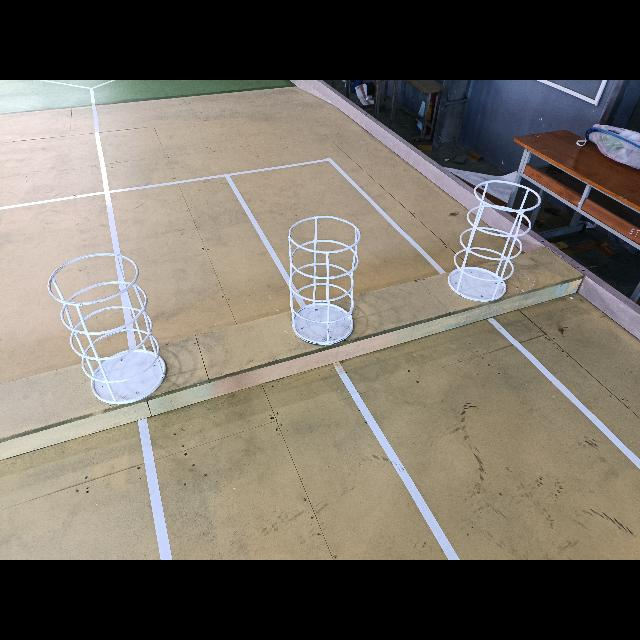S: (48, 253, 167, 406), (448, 180, 541, 303), (289, 216, 360, 348)
